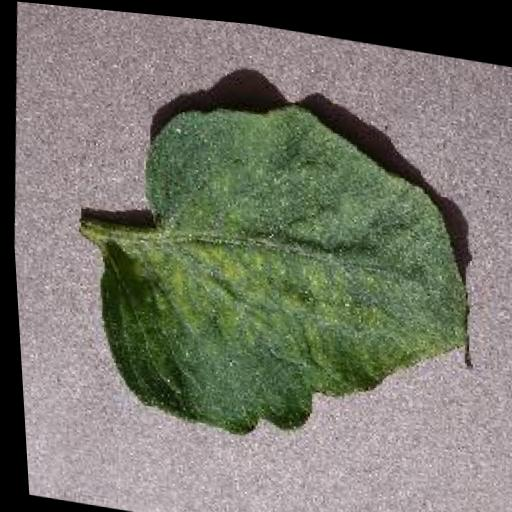Spider Mites: (79, 67, 489, 464)
